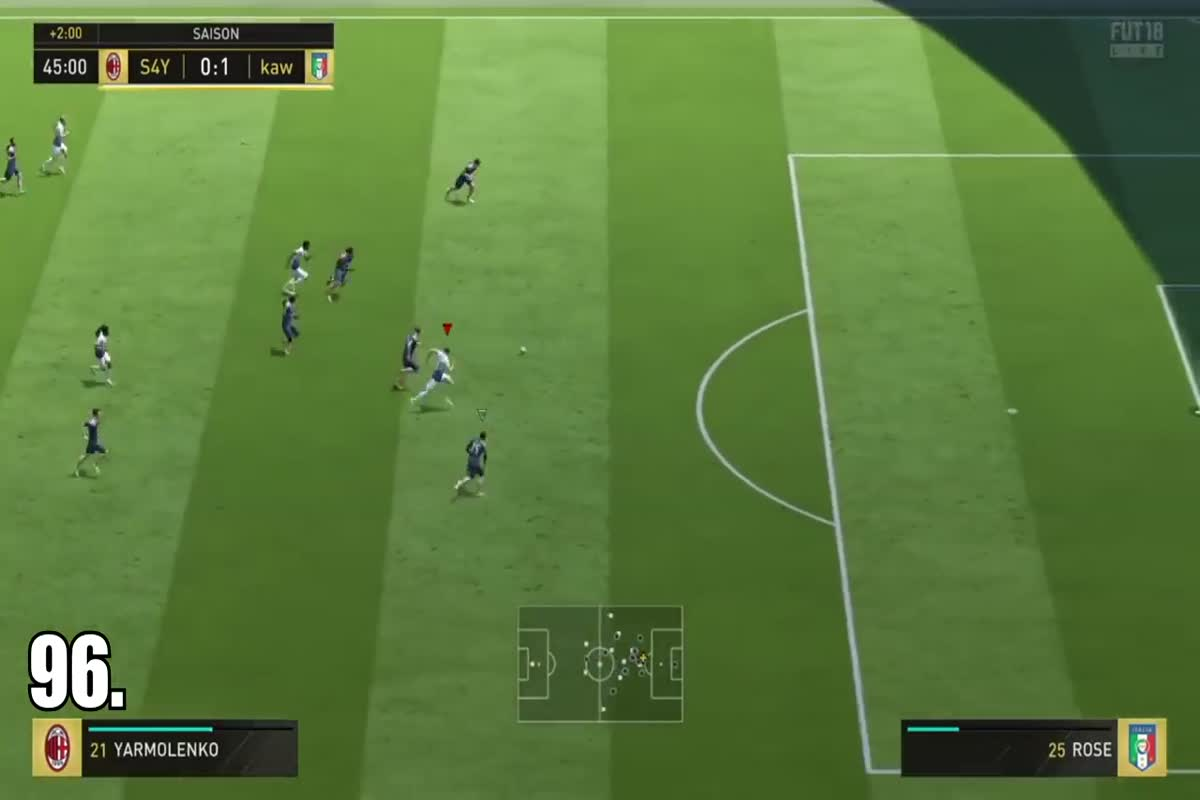ball: (507, 338, 541, 361)
